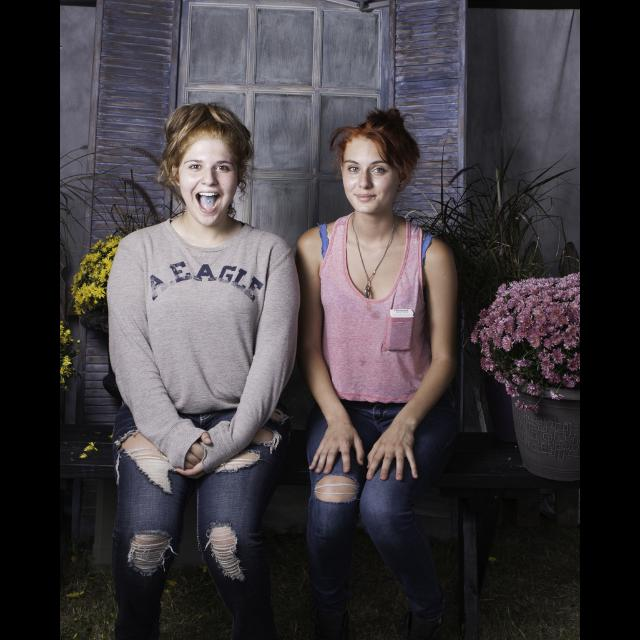Flower: (475, 268, 577, 412), (68, 230, 126, 318), (60, 321, 82, 385), (84, 440, 98, 452), (81, 452, 87, 458)
